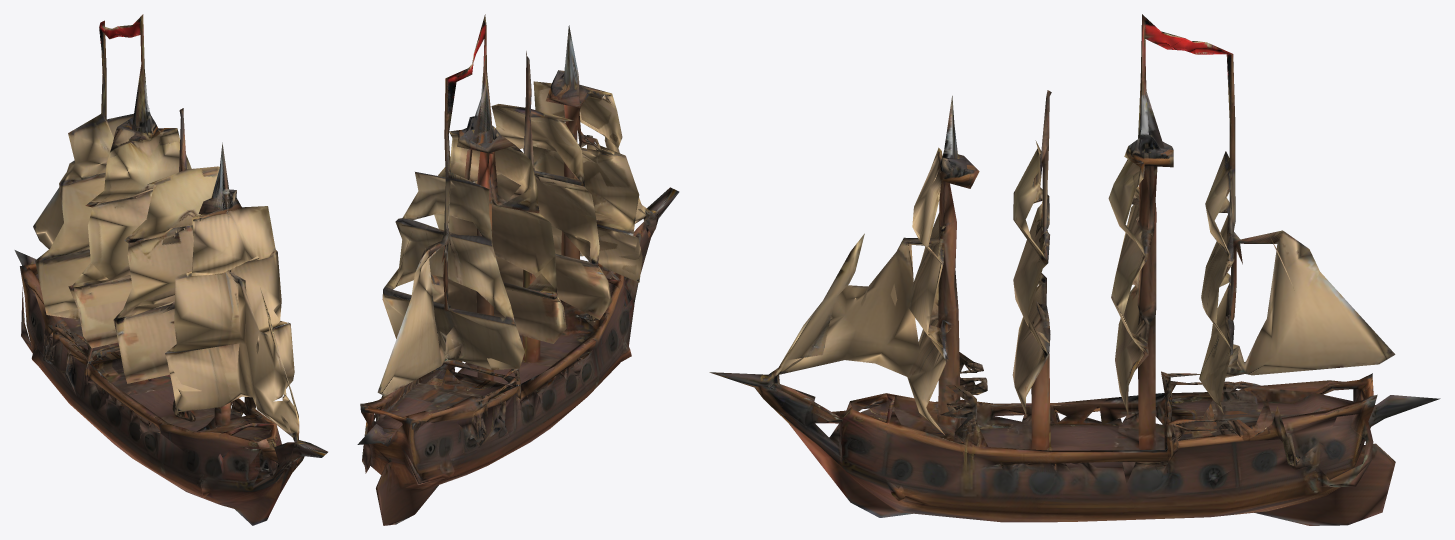
File: brigantine.glb
The picture shows the model from 3 angles, left to right: view 1: azimuth 30°, elevation 25°; view 2: azimuth 150°, elevation 25°; view 3: azimuth 270°, elevation 25°; orthographic projection. The views are drawn at different scales.
Bounding box in the file's own units: 0.5187 × 1.54 × 2.
Materials: 1 (1 with a texture image).
